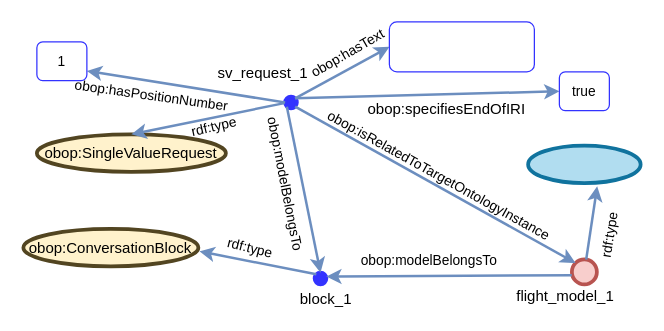
Some shapes in this 664 by 331 pixel diagram are drawn without their labels. Here are the shapes that lost their labels. From the top down, the box of each, then its label:
(388, 21, 534, 72): Enter the flight name (flight descriptor):
(526, 143, 642, 184): tio:Flight
